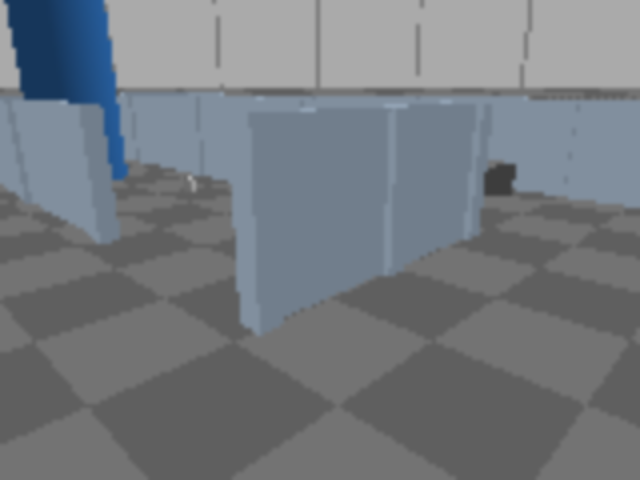obstacle: (458, 161, 516, 199)
